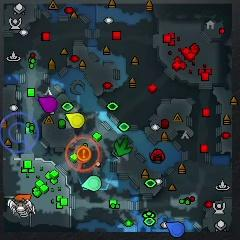Other: (77, 146, 91, 162)
p1: (166, 222, 186, 237)
p2: (82, 176, 102, 191)
p3: (39, 97, 58, 113)
p4: (66, 113, 85, 128)
p5: (15, 194, 32, 202)
x4: (114, 139, 132, 156)
